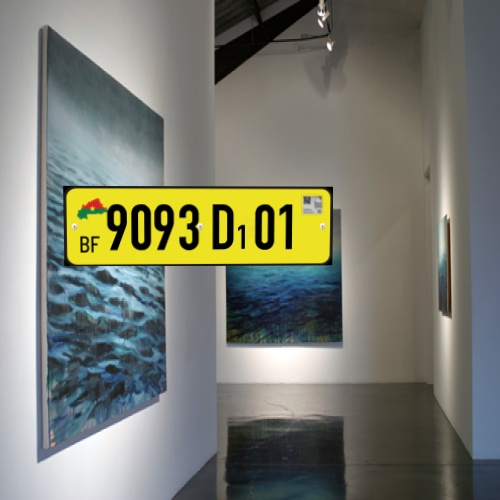plate: (53, 173, 341, 273)
